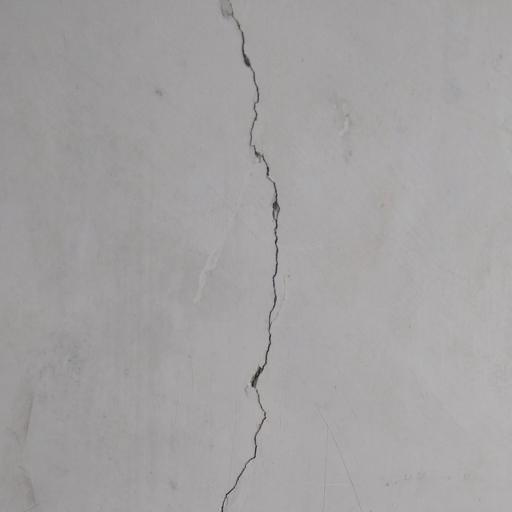major_crack: (216, 0, 291, 512)
